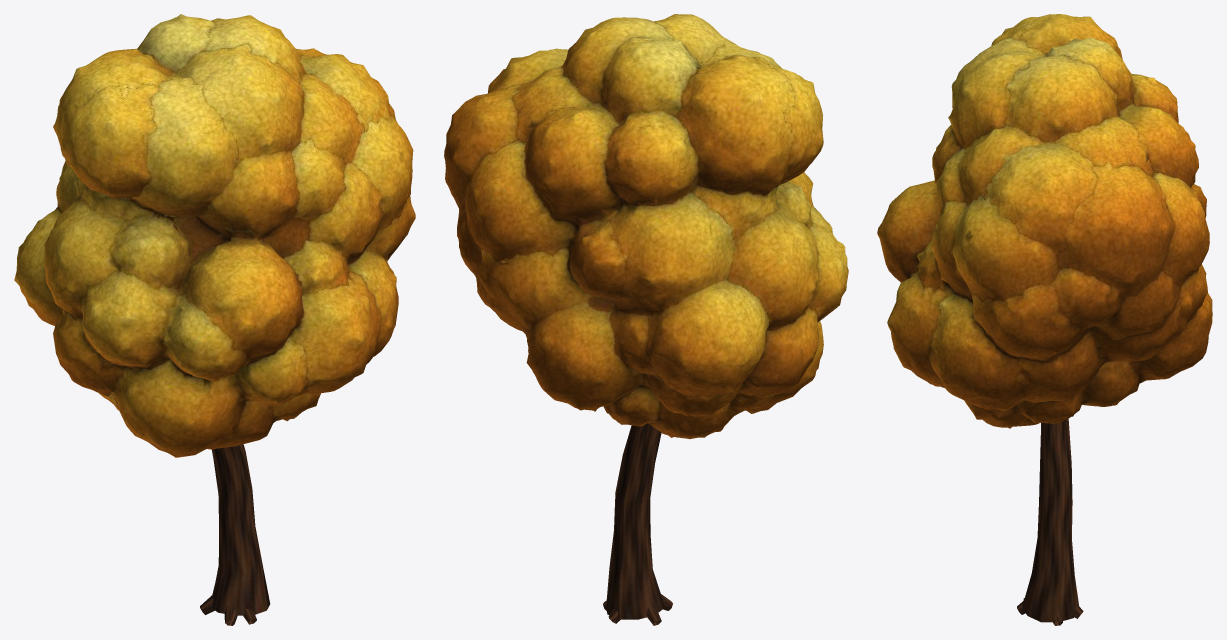
File: tree_maple_amber.glb
3 renders of one model, left to right at view 1: azimuth 30°, elevation 25°; view 2: azimuth 150°, elevation 25°; view 3: azimuth 270°, elevation 25°, orthographic. The views are drawn at different scales.
Visible parts, largest first — view 1: tree_maple_amber_crown0, trunk; view 2: tree_maple_amber_crown0, trunk; view 3: tree_maple_amber_crown0, trunk.
Boxes of the visible parts, x1,y1,x2,y2 form: tree_maple_amber_crown0: (14, 14, 415, 457); trunk: (200, 444, 270, 625); tree_maple_amber_crown0: (444, 14, 848, 439); trunk: (603, 423, 672, 625); tree_maple_amber_crown0: (877, 14, 1212, 428); trunk: (1017, 418, 1083, 625).
Bounding box in the file's own units: 2.23 × 3.68 × 2.02.
Materials: 2 (2 with a texture image).
